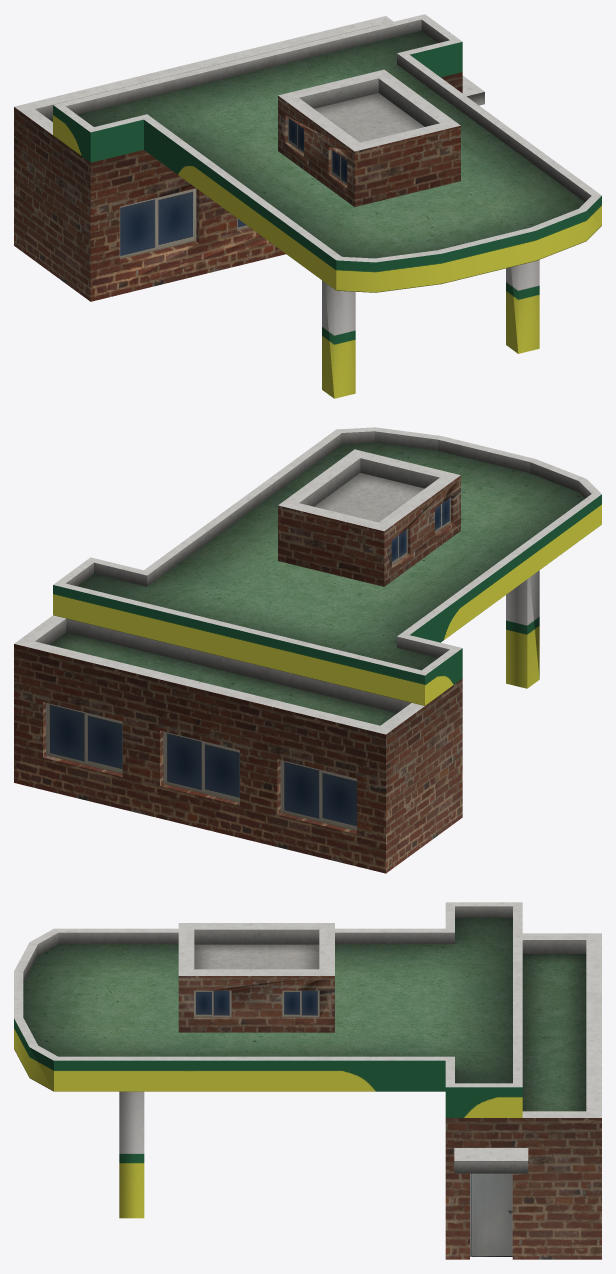
3 renders of one model, top to bottom at view 1: azimuth 30°, elevation 25°; view 2: azimuth 150°, elevation 25°; view 3: azimuth 270°, elevation 25°, orthographic.
Visible parts, largest first — view 1: MainBuilding; view 2: MainBuilding; view 3: MainBuilding.
Boxes of the visible parts, box(x1,y1,x2,y2) form: MainBuilding: box(14, 14, 601, 398); MainBuilding: box(14, 427, 601, 873); MainBuilding: box(14, 902, 601, 1259).
Bounding box in the file's own units: 1.5 × 0.7691 × 1.88.
Materials: 1 (1 with a texture image).
